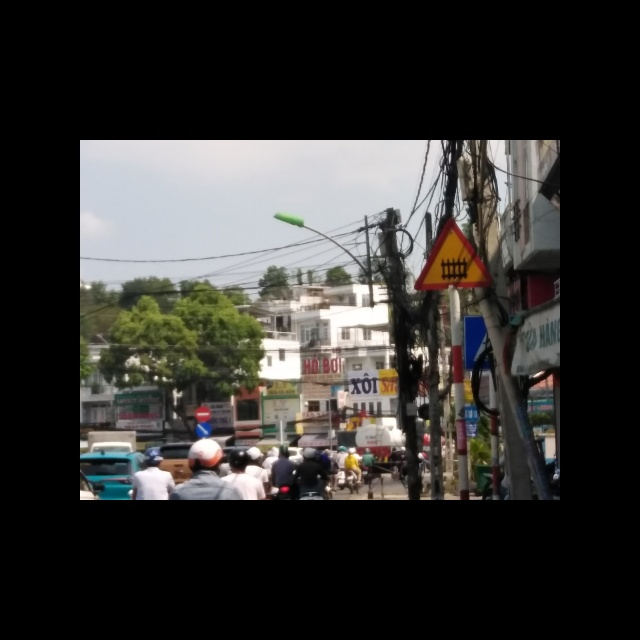Giao nhau với đường sắt có rào chắn: (412, 212, 492, 288)
